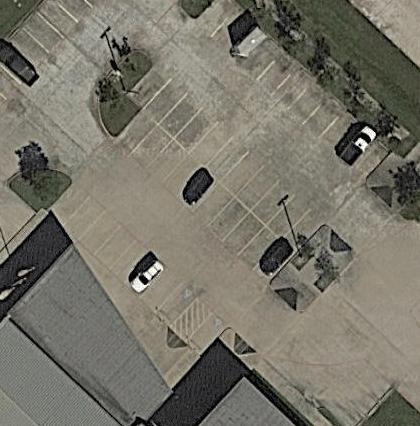parkingspot: (125, 61, 329, 255), (190, 0, 393, 183), (110, 108, 299, 287), (44, 177, 200, 329), (0, 0, 104, 103)
